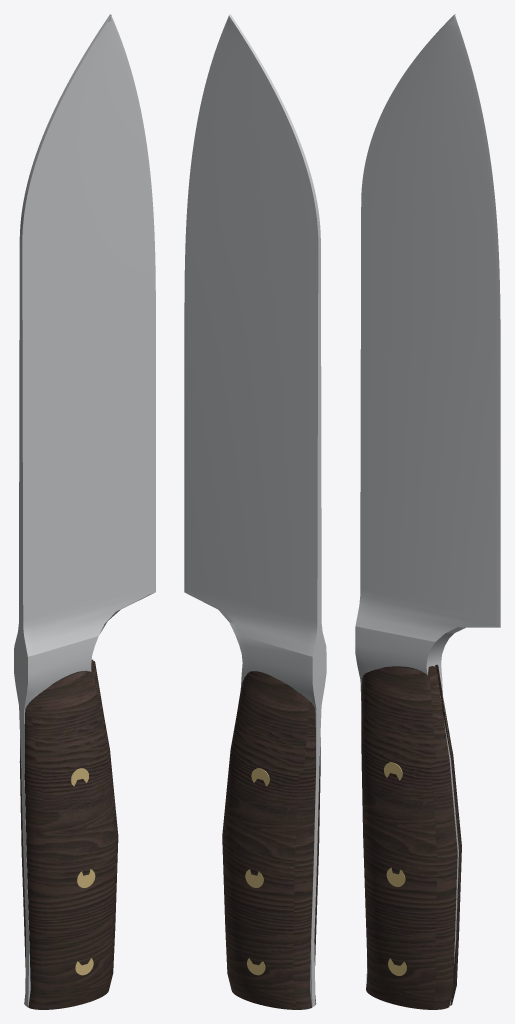
Rendered from chef.glb.
3 views of the same model, side by side, from view 1: azimuth 30°, elevation 25°; view 2: azimuth 150°, elevation 25°; view 3: azimuth 330°, elevation 25° (orthographic). The views are drawn at different scales.
Visible parts, largest first — view 1: chef_blade, chef_scale_b, chef_scale_a; view 2: chef_blade, chef_scale_a, chef_scale_b; view 3: chef_blade, chef_scale_b, chef_scale_a.
Boxes of the visible parts, left/top/right/bottom form: chef_blade: left=14, top=14, right=155, bottom=1007; chef_scale_b: left=24, top=661, right=118, bottom=1009; chef_scale_a: left=19, top=659, right=93, bottom=1004; chef_blade: left=184, top=14, right=326, bottom=1007; chef_scale_a: left=222, top=671, right=315, bottom=1009; chef_scale_b: left=314, top=737, right=320, bottom=1004; chef_blade: left=355, top=14, right=500, bottom=1005; chef_scale_b: left=361, top=666, right=457, bottom=1009; chef_scale_a: left=435, top=664, right=461, bottom=1005.
Bounding box in the file's own units: 0.048 × 0.33 × 0.0204.
3 materials, 1 textured.
